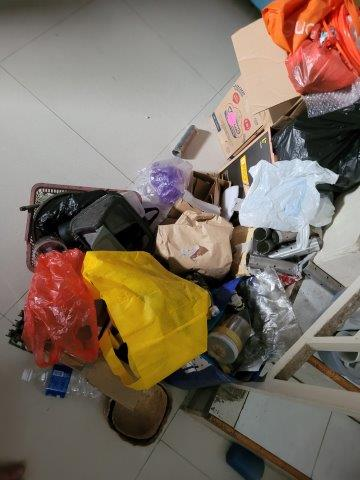botolplastik: (17, 362, 107, 403)
kardus: (212, 20, 297, 154)
plastik: (25, 248, 101, 362), (293, 20, 352, 102), (141, 156, 188, 205)
